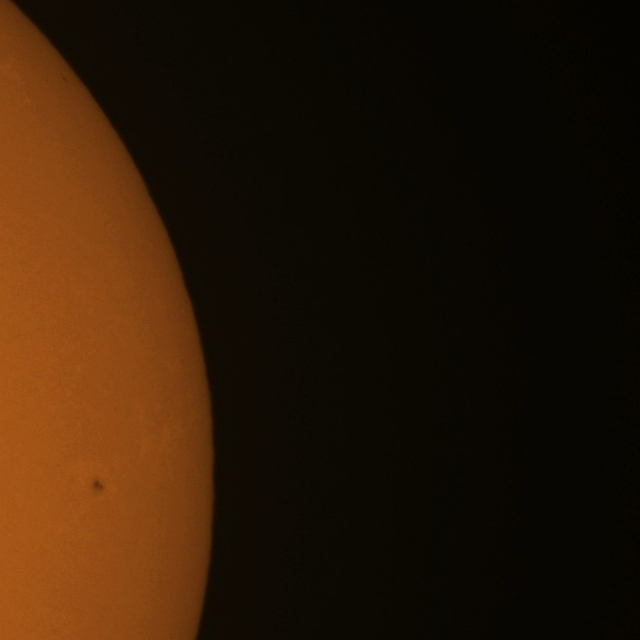sunspot: (90, 476, 107, 495)
